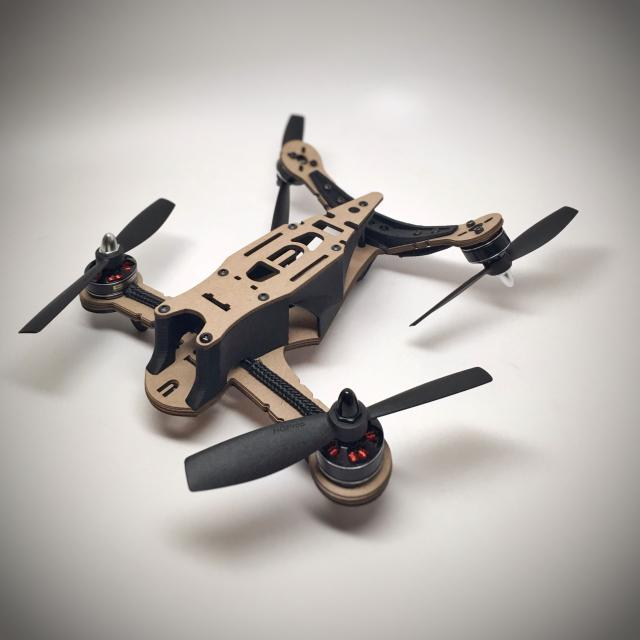drone: (48, 103, 603, 533)
